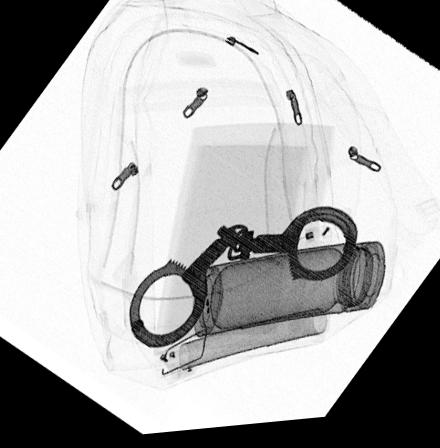HandCuffs: (127, 210, 359, 350)
